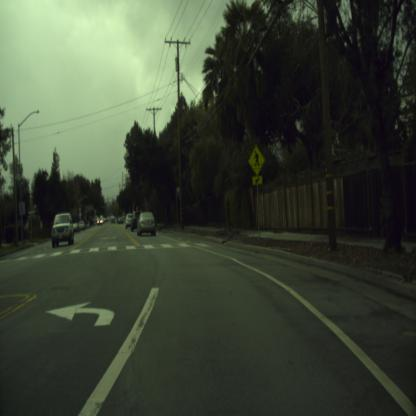Red: (112, 200, 114, 206)
